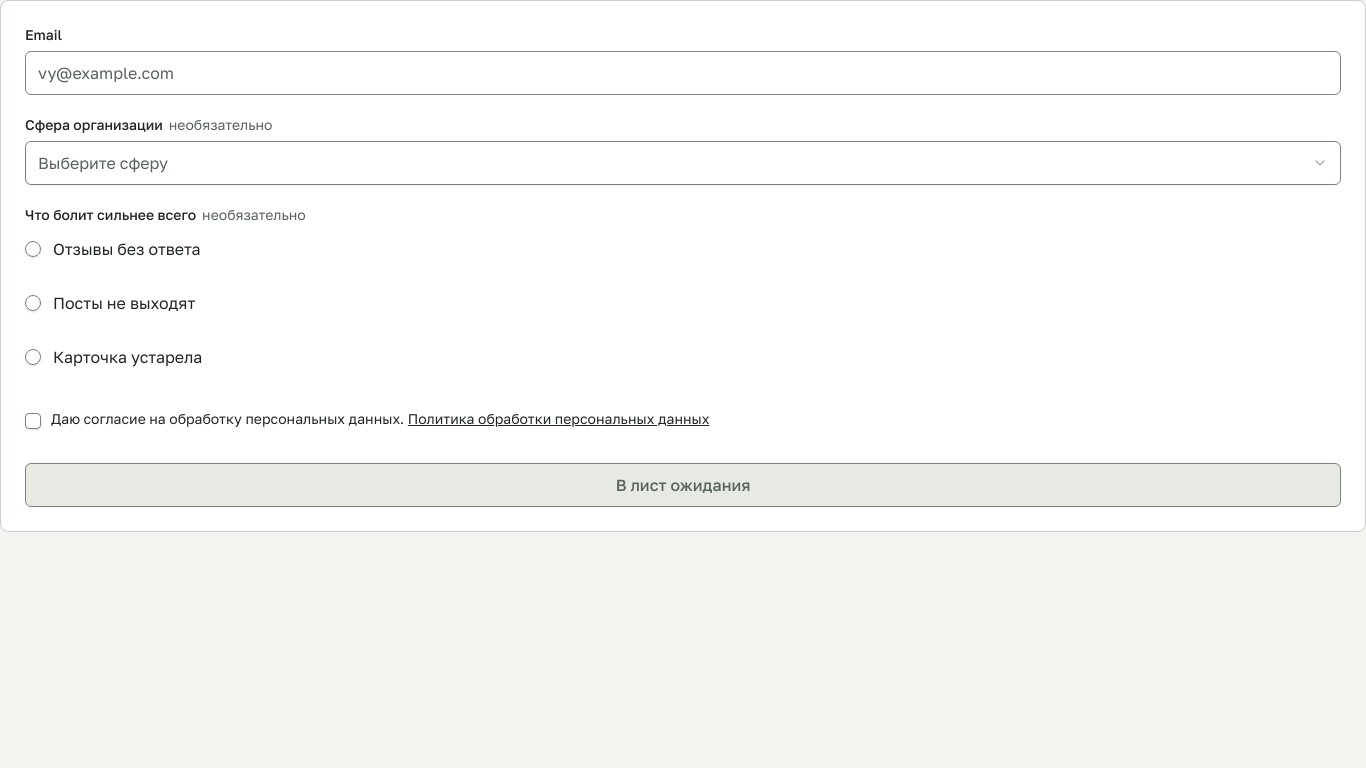
waitlist choices and recovery › toggles choices through their labels and submits the selected payload
The image size is (1366, 768).
Type "owner@example.com" into the field labelled "Email" at [683, 73], box [25,51,1341,95]
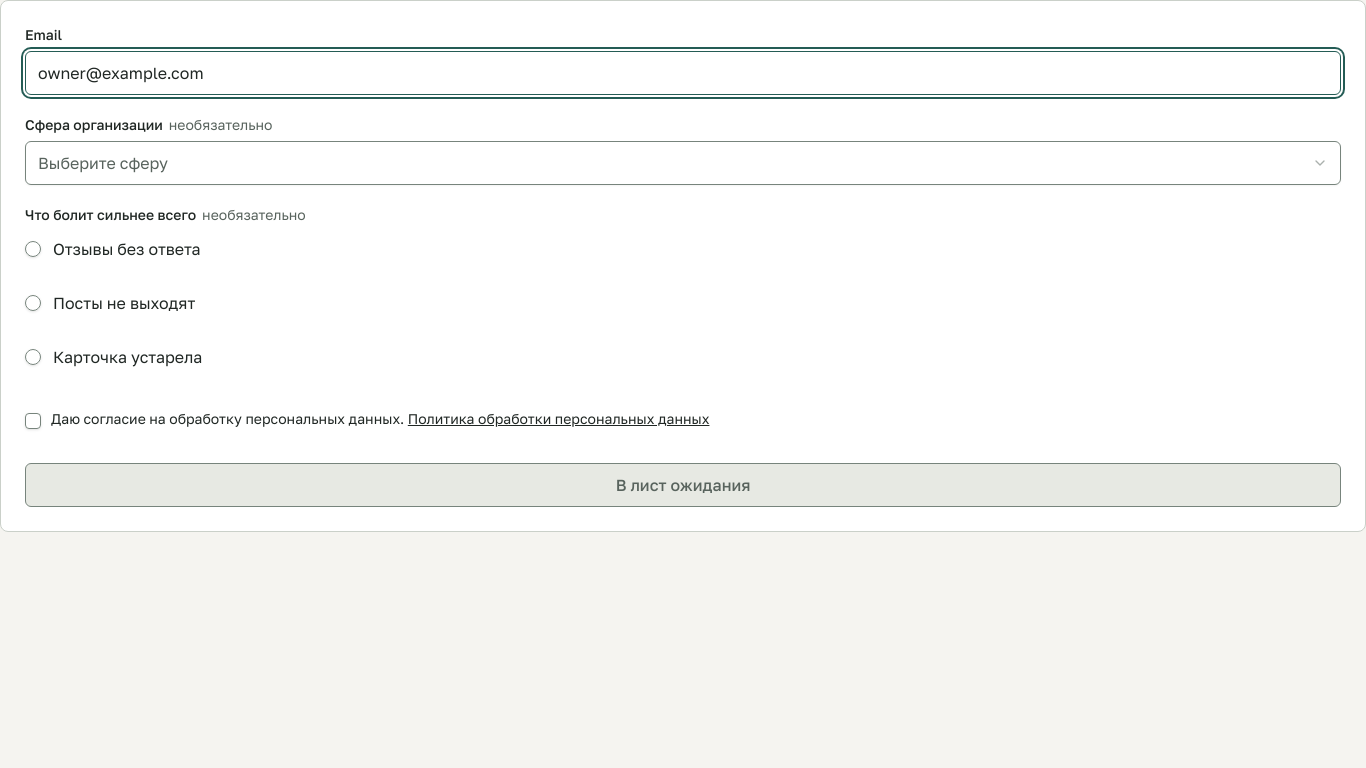
Click the text "Отзывы без ответа" at [113, 248], box [25,238,200,258]
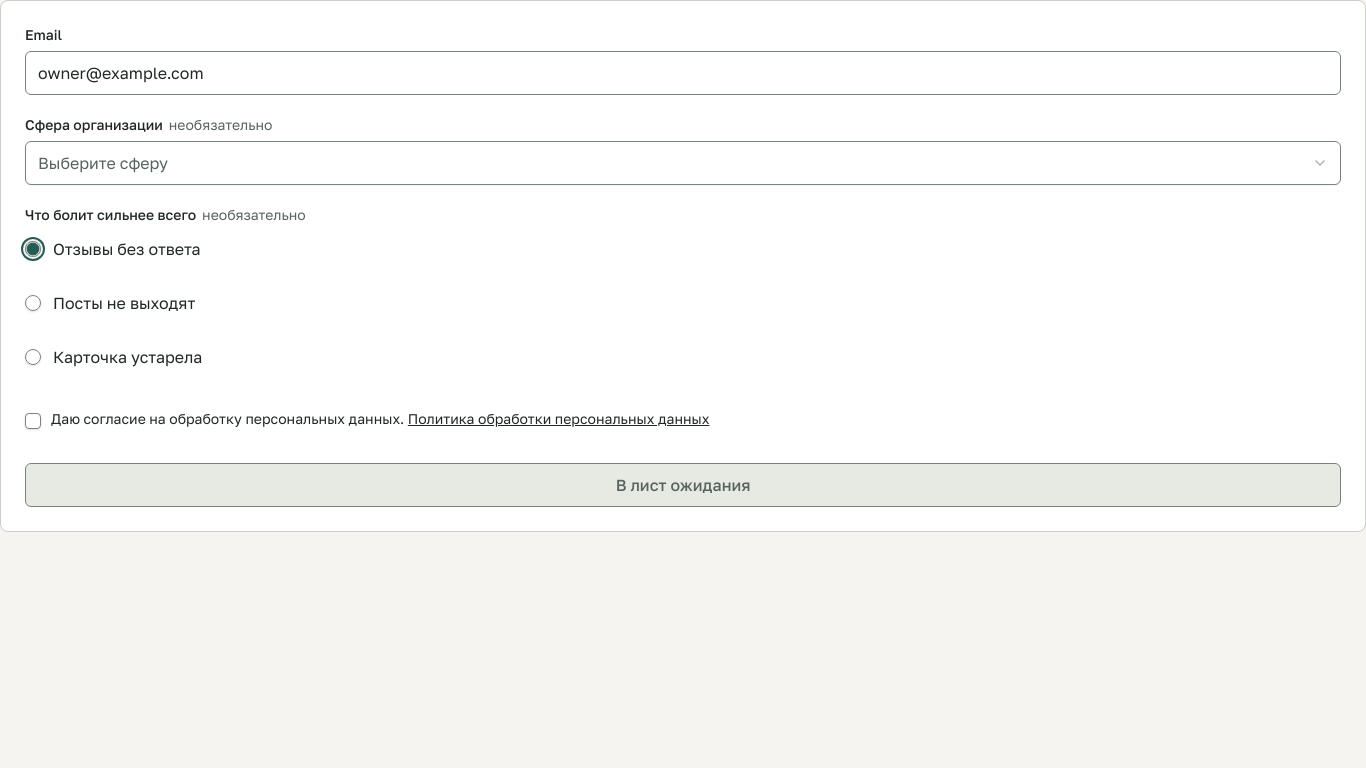
Check: the radio button named "Отзывы без ответа" next to "Отзывы без ответа" is checked, box [25,241,41,257]
Click the text "Посты не выходят" at [110, 302], box [25,292,195,312]
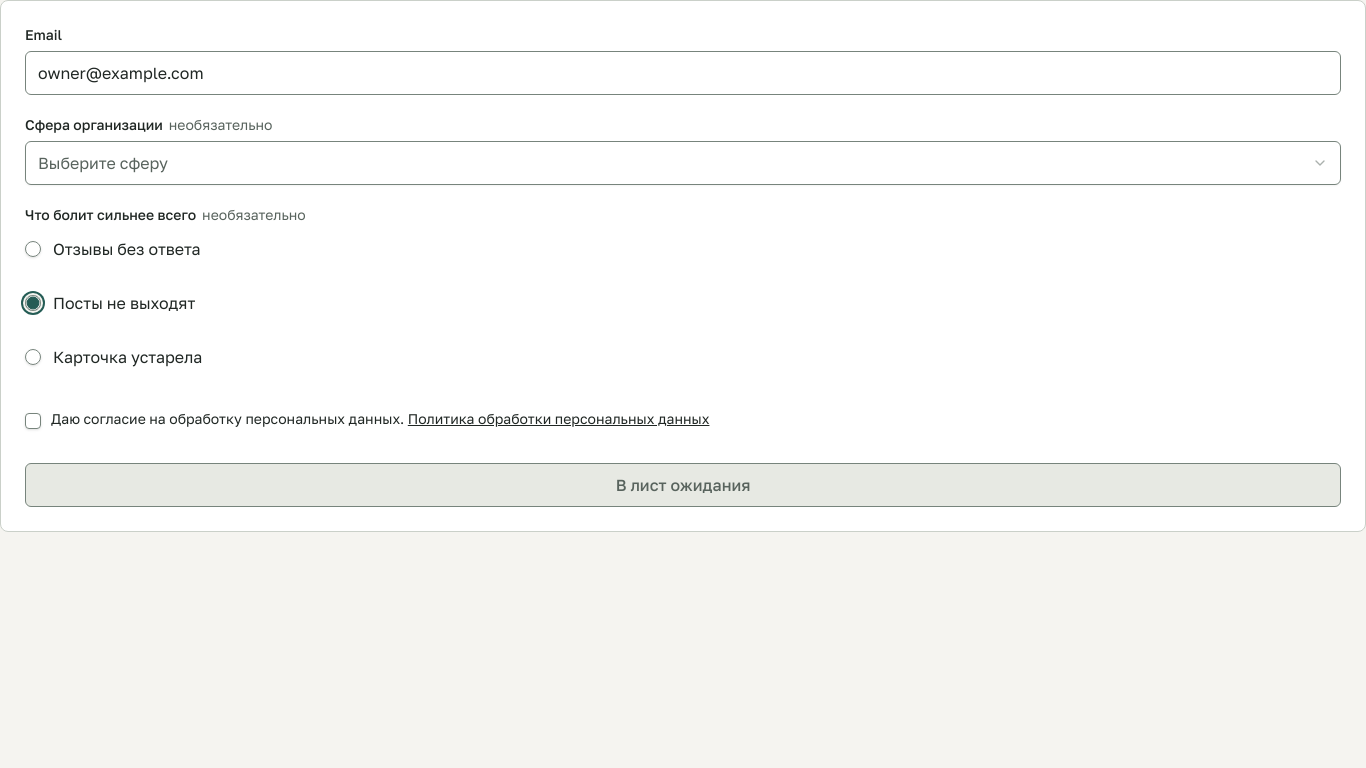
Check: the radio button named "Посты не выходят" next to "Посты не выходят" is checked, box [25,295,41,311]
Click the text "Карточка устарела" at [114, 356], box [25,346,202,366]
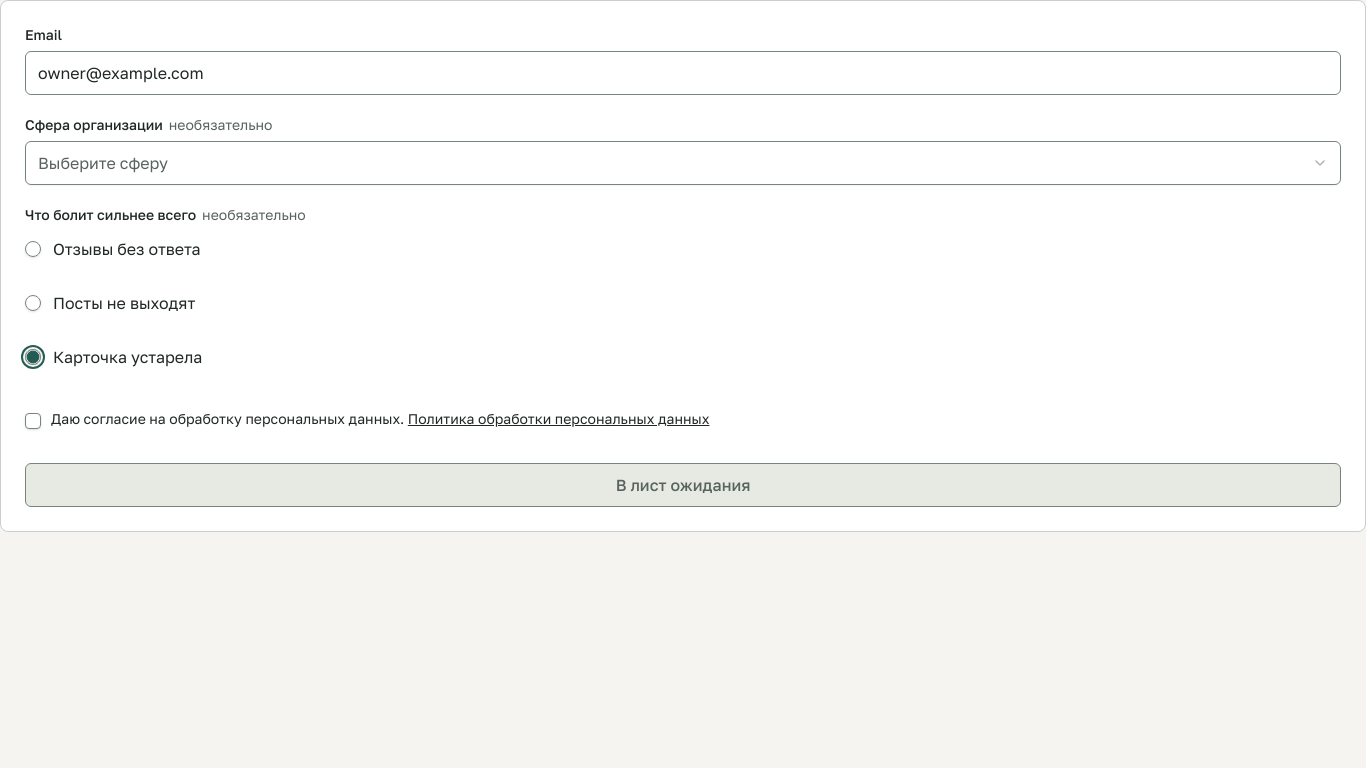
Check: the radio button named "Карточка устарела" next to "Карточка устарела" is checked, box [25,349,41,365]
Click the text "Даю согласие на обработку персональных данных." at [380, 418], box [51,410,709,427]
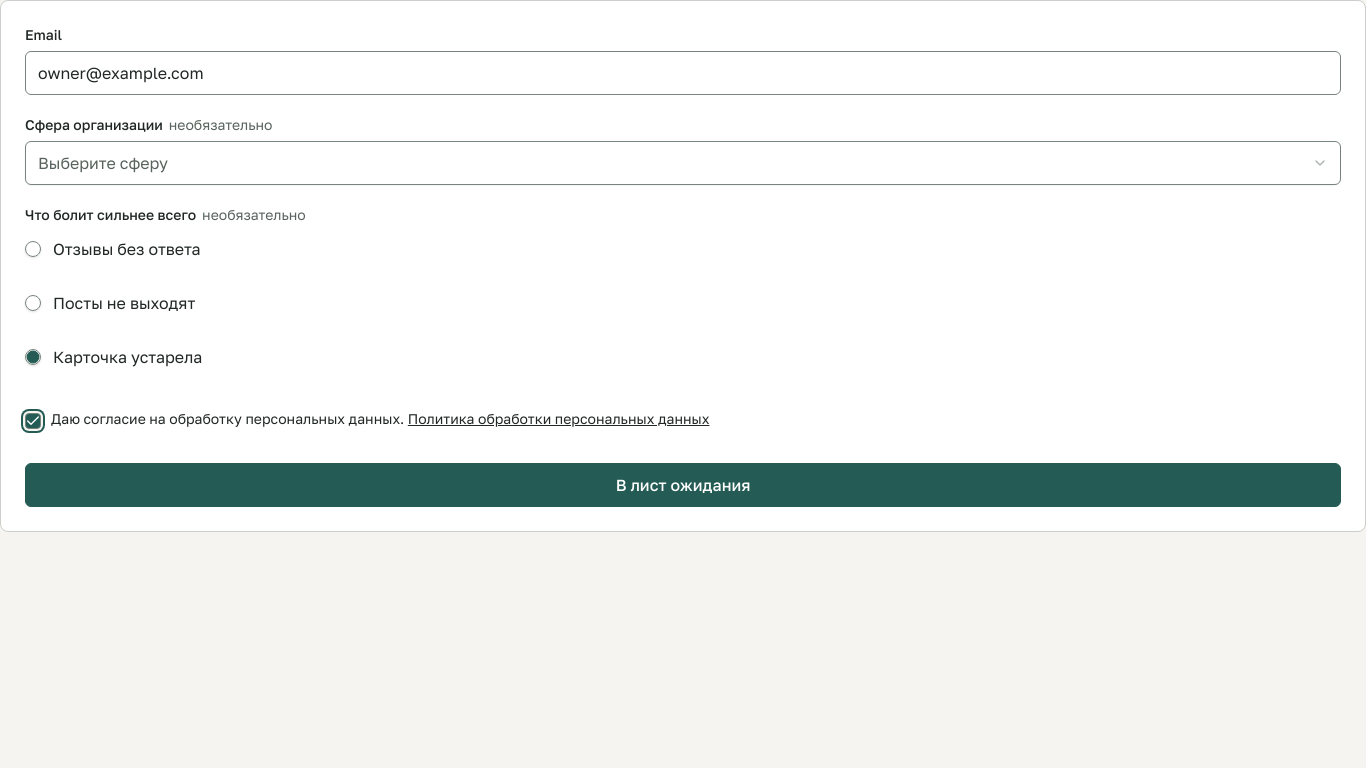
Check: the checkbox is checked, box [25,413,41,429]
Click the button "В лист ожидания" at [683, 485], box [25,463,1341,507]
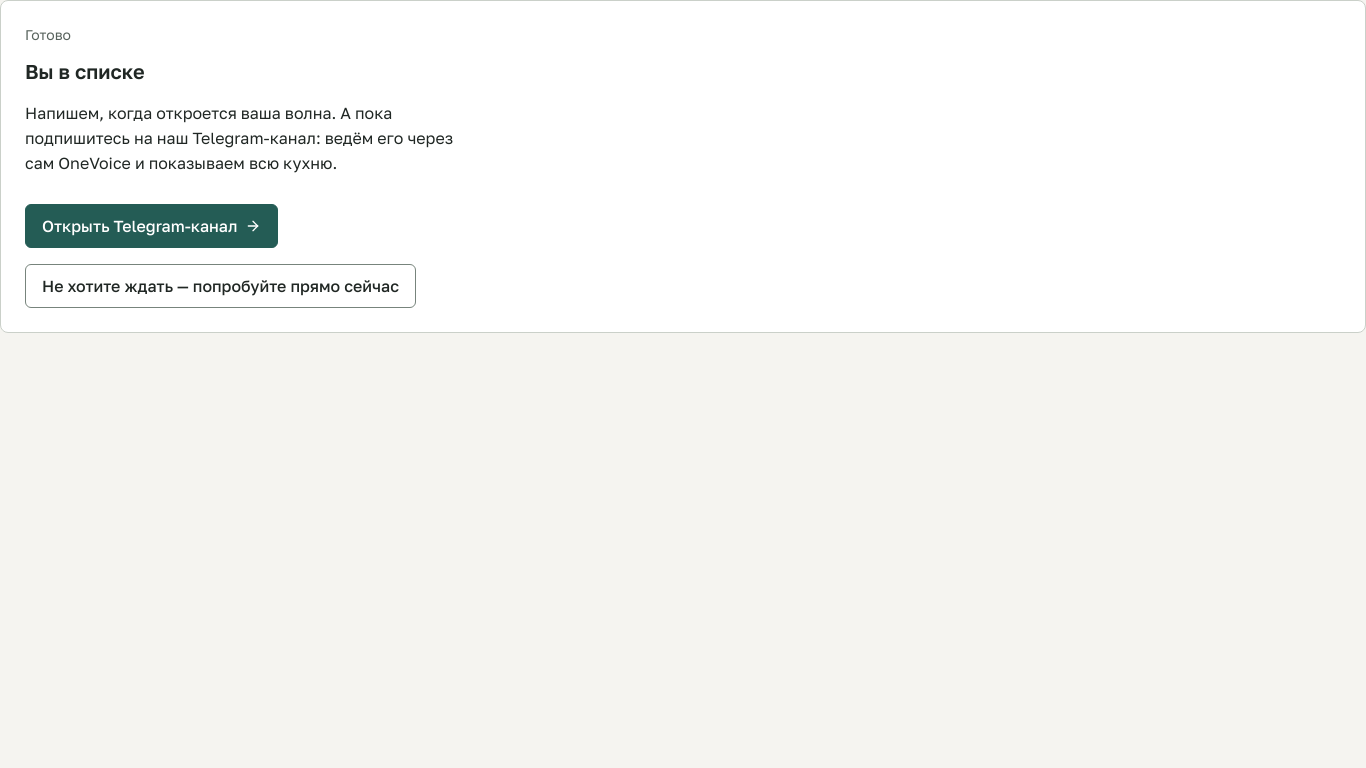
Check: the heading "Вы в списке" is shown, box [25,59,144,83]
